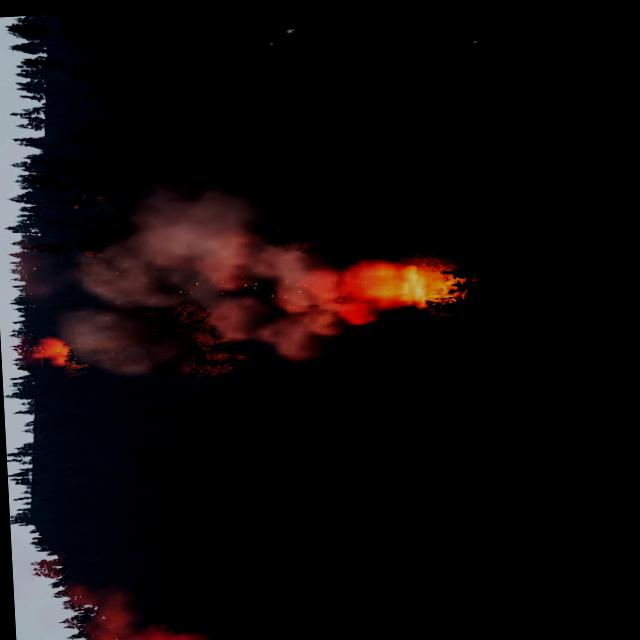fire: (356, 257, 464, 316), (31, 334, 78, 368)
smoke: (49, 166, 364, 374), (51, 577, 216, 640)
